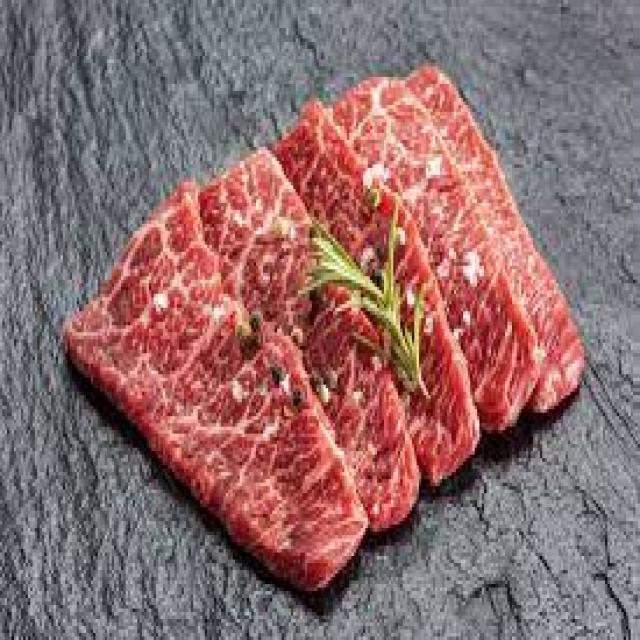Beef: (65, 182, 370, 589)
